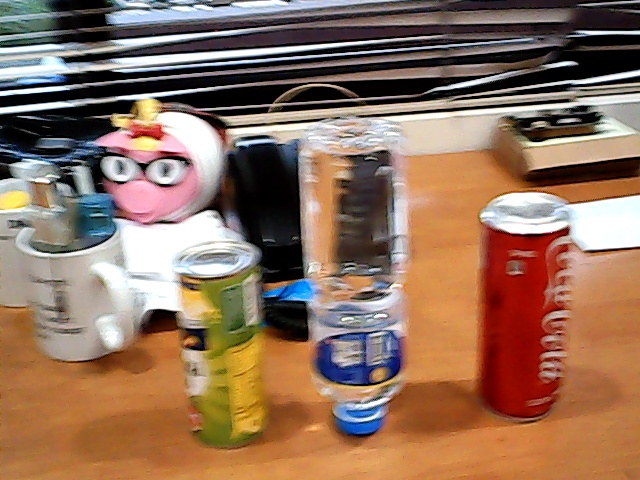Cola: (471, 174, 588, 426)
Pine Juice: (154, 233, 280, 454)
Summit Water: (295, 106, 425, 440)
